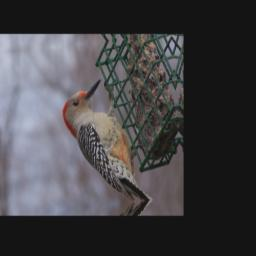Woodpecker: (60, 76, 148, 208)
